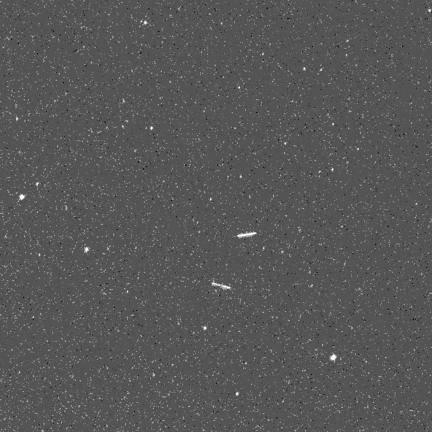blob: (330, 354, 337, 361), (19, 195, 25, 200), (85, 247, 89, 252), (203, 326, 207, 330), (238, 86, 241, 90), (150, 127, 154, 130), (236, 392, 239, 396), (144, 21, 147, 24), (303, 68, 306, 71), (332, 168, 334, 172), (333, 123, 335, 127)
streak: (212, 282, 231, 289), (237, 233, 256, 237)
